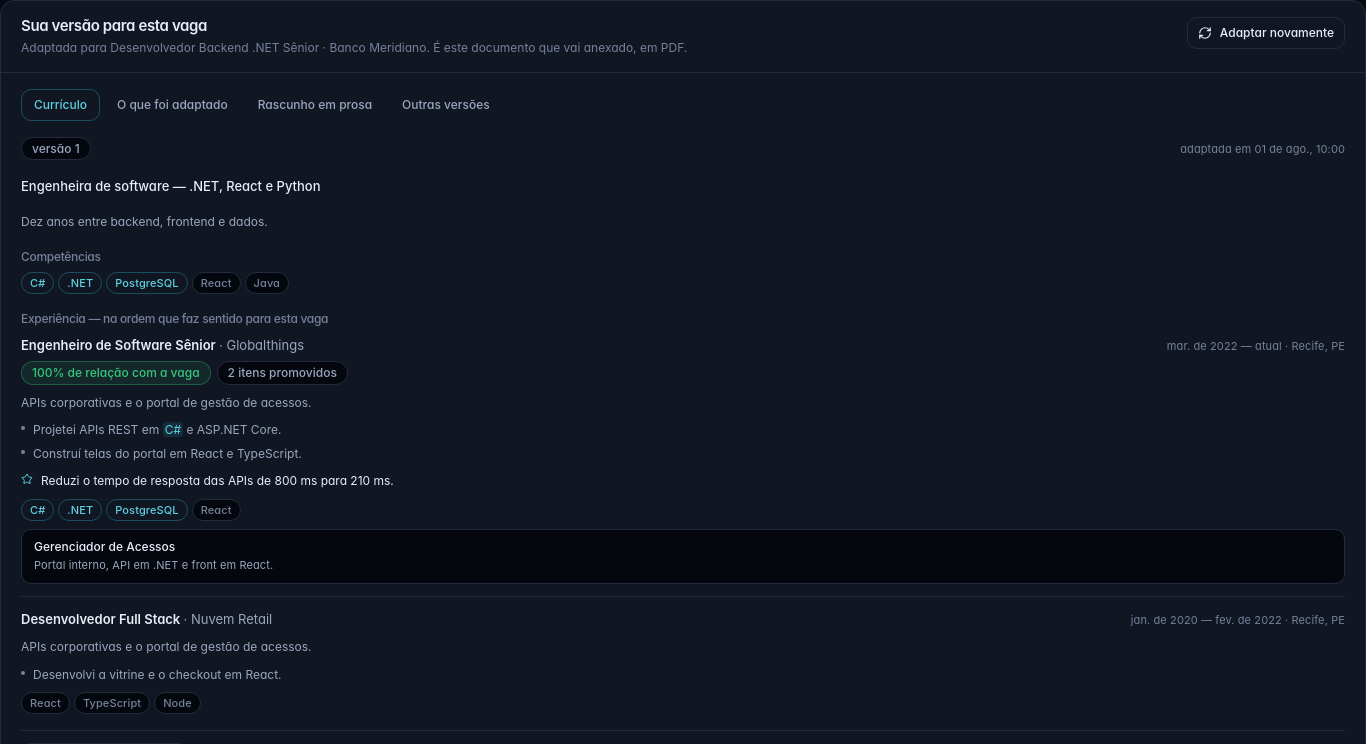
Test: ApplicationResumePanel change report › says plainly when nothing was reorganised
The image size is (1366, 744).
Check: the text "versão 1" is shown, box [21, 137, 91, 160]
Step 1. Click the tab "O que foi adaptado" → (172, 105), box [104, 89, 241, 121]
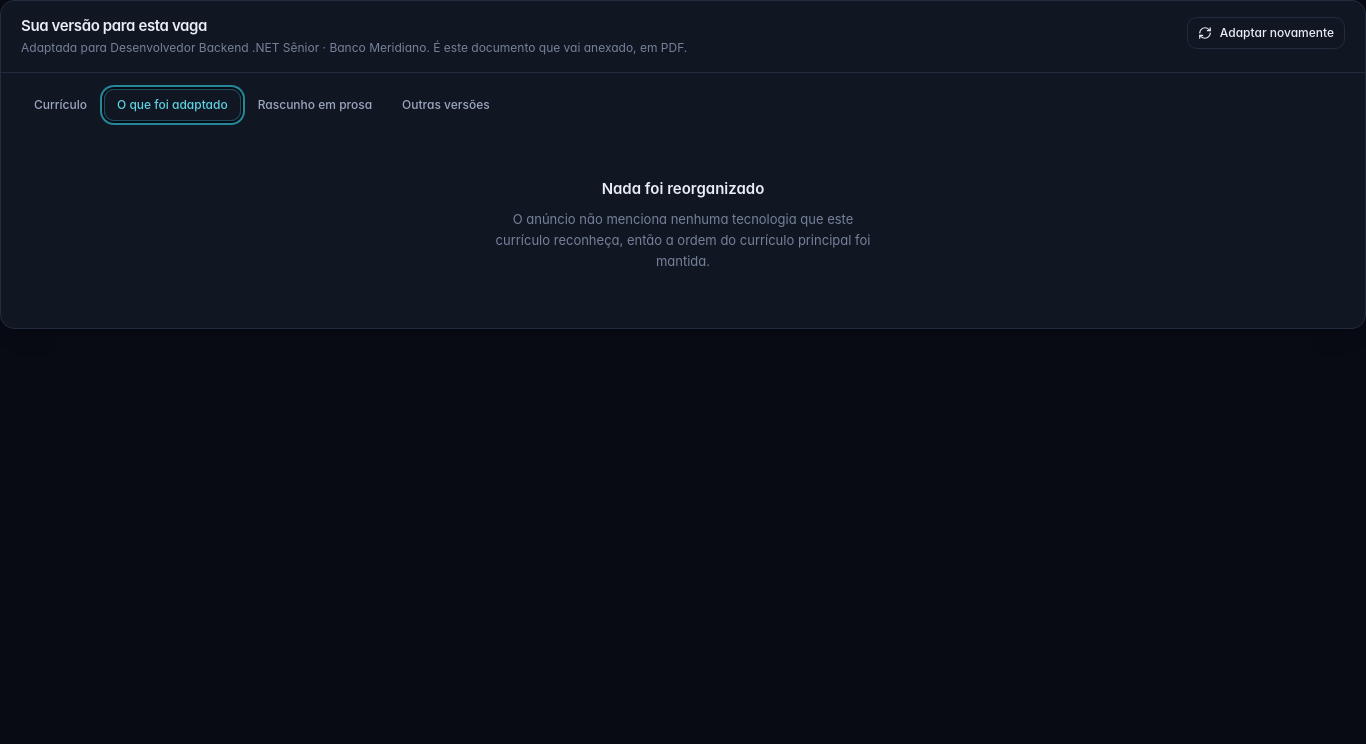
Check: the text "Nada foi reorganizado" is shown, box [602, 177, 764, 201]
